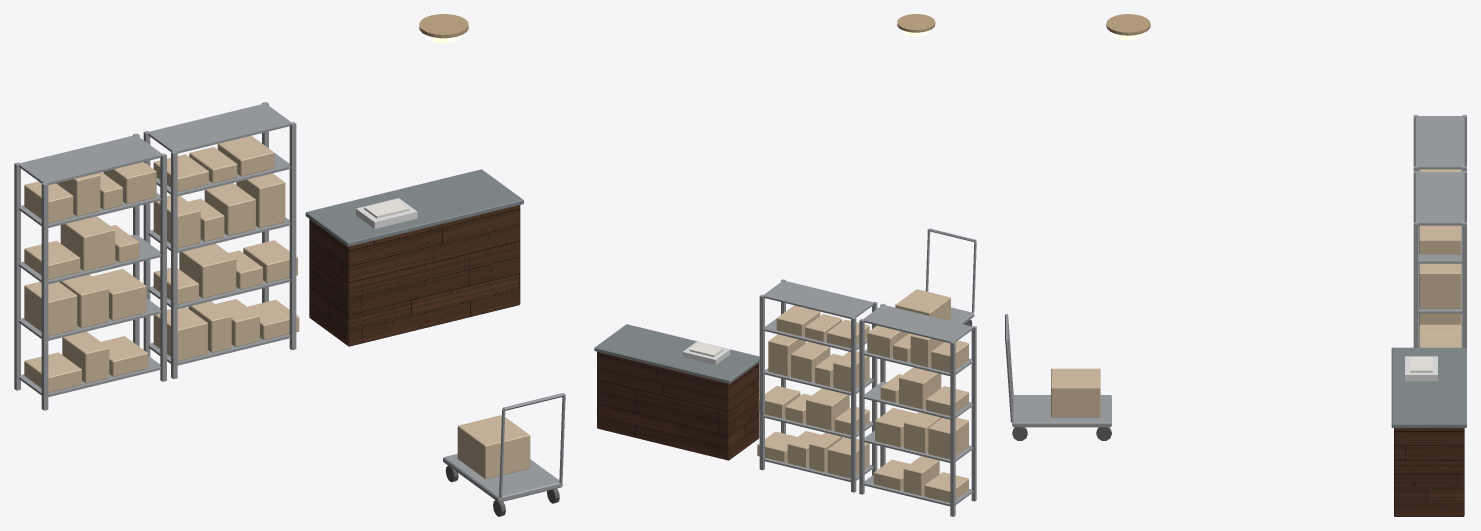
File: mailroom.glb
3 views of the same model, side by side, from view 1: azimuth 30°, elevation 25°; view 2: azimuth 150°, elevation 25°; view 3: azimuth 270°, elevation 25° (orthographic). The views are drawn at different scales.
Parts seen in each view (by area): view 1: mailroom_box_c, mailroom_steel, mailroom_dkwood, mailroom_marble_d, mailroom_bronze, mailroom_chrome; view 2: mailroom_box_c, mailroom_steel, mailroom_dkwood, mailroom_marble_d, mailroom_bronze, mailroom_chrome; view 3: mailroom_steel, mailroom_box_c, mailroom_dkwood, mailroom_marble_d, mailroom_bronze, mailroom_chrome.
Part boxes in pixels (left/top/right/bottom): mailroom_box_c: left=24, top=135, right=530, bottom=479; mailroom_steel: left=14, top=102, right=565, bottom=502; mailroom_dkwood: left=309, top=205, right=520, bottom=346; mailroom_marble_d: left=305, top=169, right=523, bottom=246; mailroom_bronze: left=419, top=14, right=468, bottom=38; mailroom_chrome: left=356, top=198, right=417, bottom=228; mailroom_box_c: left=757, top=289, right=968, bottom=502; mailroom_steel: left=759, top=228, right=976, bottom=516; mailroom_dkwood: left=597, top=351, right=759, bottom=460; mailroom_marble_d: left=594, top=324, right=759, bottom=383; mailroom_bronze: left=897, top=14, right=935, bottom=32; mailroom_chrome: left=682, top=341, right=730, bottom=364; mailroom_steel: left=1005, top=115, right=1466, bottom=427; mailroom_box_c: left=1051, top=169, right=1461, bottom=417; mailroom_dkwood: left=1394, top=428, right=1464, bottom=516; mailroom_marble_d: left=1391, top=347, right=1466, bottom=427; mailroom_bronze: left=1106, top=14, right=1150, bottom=35; mailroom_chrome: left=1405, top=356, right=1437, bottom=381.
Bounding box in the file's own units: 4.34 × 3.95 × 4.17.
9 materials, 1 textured.
